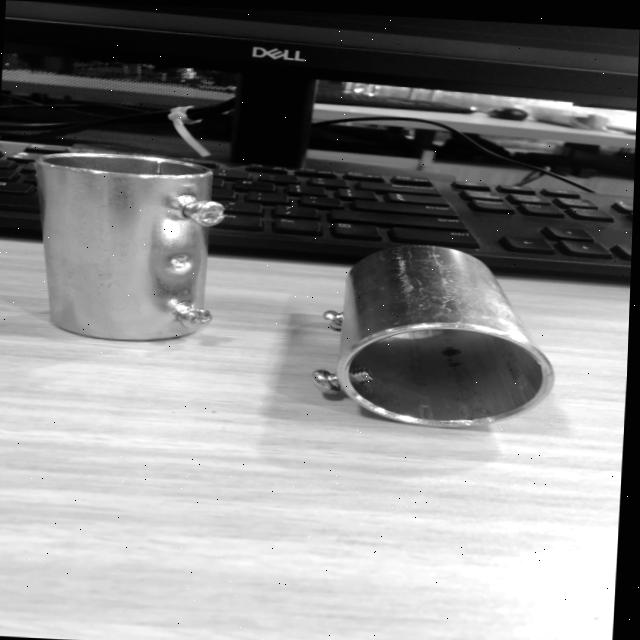Co_Lon: (303, 233, 572, 439)
Co_Nho: (35, 152, 224, 340)
